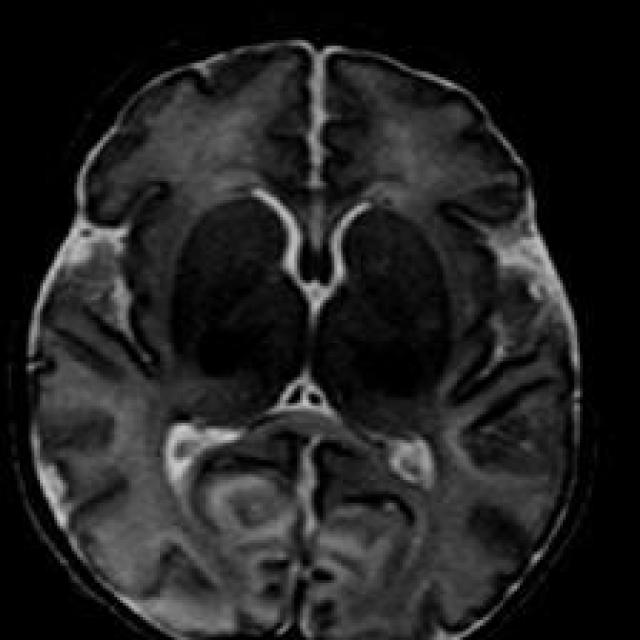no_tumor: (5, 15, 601, 640)
